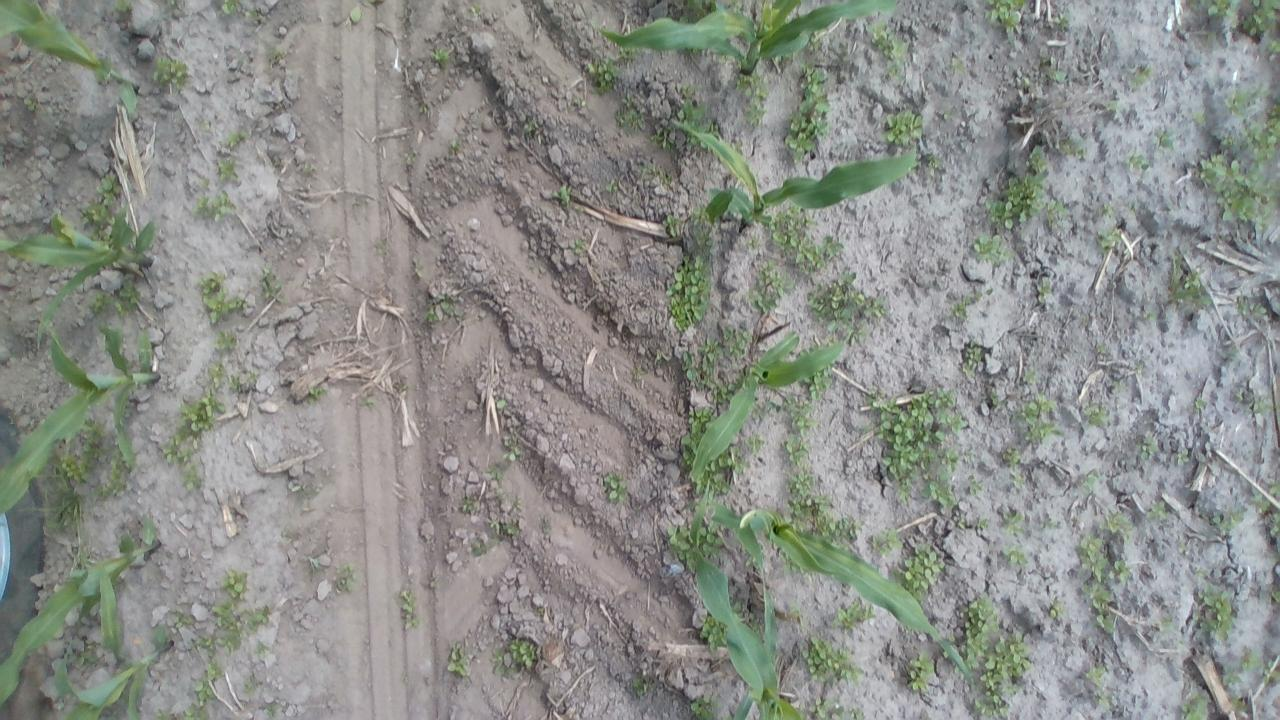Maize: (738, 510, 976, 684), (668, 476, 802, 720), (1, 317, 162, 516), (2, 516, 162, 704), (670, 114, 920, 219), (690, 332, 844, 482), (0, 206, 157, 350), (600, 0, 900, 72), (0, 0, 138, 113), (51, 624, 176, 720)
Weeds: (880, 390, 956, 473), (1198, 153, 1280, 224), (806, 272, 862, 329), (991, 176, 1046, 232), (982, 633, 1032, 692), (785, 90, 828, 153), (966, 594, 996, 664), (665, 256, 712, 299), (212, 599, 246, 652), (904, 546, 946, 588), (1197, 586, 1235, 632), (772, 213, 814, 248), (1248, 118, 1280, 163), (1079, 534, 1108, 580), (1170, 270, 1208, 303), (886, 110, 922, 144), (1200, 0, 1239, 30), (982, 0, 1022, 27), (724, 322, 750, 358), (614, 106, 646, 135), (98, 463, 126, 496), (1254, 0, 1280, 34), (982, 670, 1002, 714), (803, 634, 826, 672), (221, 568, 249, 599), (1180, 690, 1208, 720), (152, 61, 188, 84), (791, 239, 819, 268), (400, 589, 420, 629), (699, 336, 721, 372), (954, 290, 980, 320), (872, 29, 901, 55), (204, 296, 227, 328), (183, 404, 210, 431), (1227, 88, 1253, 116), (668, 298, 692, 328), (690, 209, 709, 246), (82, 428, 101, 464), (1098, 512, 1132, 532), (160, 706, 210, 719), (1086, 582, 1112, 607), (688, 292, 709, 322), (511, 642, 535, 668), (798, 68, 824, 92), (760, 271, 786, 295), (258, 270, 280, 298), (100, 174, 120, 204), (1026, 417, 1054, 438), (820, 232, 841, 260), (910, 652, 934, 676), (1027, 144, 1046, 174), (788, 434, 808, 462), (682, 354, 702, 382), (787, 405, 813, 426), (1059, 139, 1090, 156), (216, 155, 236, 181), (592, 64, 612, 90), (701, 624, 720, 651), (788, 486, 809, 510), (1004, 545, 1028, 566), (193, 679, 213, 704), (860, 298, 885, 318), (450, 649, 468, 676), (1144, 500, 1166, 522), (1242, 16, 1264, 38), (810, 374, 830, 398), (211, 192, 231, 216), (834, 606, 860, 624), (690, 402, 706, 431), (974, 235, 1003, 251), (1046, 200, 1067, 222), (249, 610, 269, 633), (118, 281, 138, 304), (200, 273, 223, 293), (684, 98, 704, 121), (62, 461, 89, 478), (206, 391, 224, 416), (210, 361, 228, 386), (746, 102, 764, 127), (929, 482, 950, 503), (1002, 512, 1024, 532), (836, 518, 858, 538), (1097, 229, 1120, 248), (491, 649, 507, 676), (90, 291, 108, 315), (213, 331, 237, 349), (1249, 490, 1267, 514), (884, 57, 904, 78), (692, 696, 712, 717), (720, 458, 747, 473), (1240, 648, 1260, 668), (844, 328, 869, 344), (879, 531, 900, 550), (817, 514, 835, 536), (338, 566, 354, 590), (909, 670, 928, 690), (202, 660, 222, 679), (608, 479, 628, 498), (439, 296, 460, 314), (704, 529, 722, 550), (745, 82, 767, 99), (1049, 57, 1065, 80), (1267, 512, 1280, 540), (1096, 614, 1115, 633), (1030, 393, 1050, 411), (1223, 662, 1238, 686), (193, 198, 210, 219), (746, 433, 764, 452), (1252, 82, 1270, 101), (790, 470, 810, 487), (896, 479, 912, 500), (223, 130, 247, 144), (1136, 62, 1152, 83), (1038, 279, 1051, 304), (90, 206, 108, 224), (1218, 132, 1236, 150), (1088, 406, 1106, 424), (505, 441, 521, 461), (652, 126, 668, 146), (662, 216, 678, 236), (712, 383, 732, 399), (966, 343, 980, 365), (168, 427, 186, 444), (187, 430, 204, 448), (1156, 127, 1172, 146), (552, 186, 570, 202), (183, 472, 201, 488), (1055, 11, 1071, 29), (1128, 154, 1146, 170), (838, 666, 858, 680), (161, 446, 181, 460), (1023, 364, 1037, 384), (1267, 40, 1280, 61), (245, 674, 258, 694), (1238, 298, 1251, 318), (431, 47, 447, 63), (228, 298, 246, 312), (1266, 475, 1278, 496), (1212, 516, 1230, 530), (816, 495, 831, 511), (258, 700, 278, 712), (630, 676, 646, 691), (1142, 437, 1156, 454), (571, 238, 588, 252), (1250, 301, 1265, 316), (826, 652, 840, 668), (488, 465, 504, 479), (1086, 667, 1106, 678), (1176, 446, 1188, 463), (230, 374, 242, 391), (220, 1, 237, 13), (968, 479, 982, 493), (503, 524, 517, 538), (1265, 102, 1279, 116), (604, 472, 618, 486), (462, 499, 475, 514), (1116, 560, 1128, 576), (115, 1, 131, 13), (430, 305, 440, 324), (1006, 446, 1020, 459), (1194, 114, 1208, 127), (1051, 602, 1062, 618), (308, 385, 322, 397), (1232, 509, 1242, 525), (26, 99, 40, 110), (738, 75, 752, 86), (988, 389, 998, 404), (622, 94, 632, 108), (608, 181, 618, 194), (1271, 589, 1280, 602), (1104, 201, 1114, 212), (748, 237, 758, 248), (928, 154, 936, 166), (1196, 399, 1206, 408), (758, 300, 765, 312)
